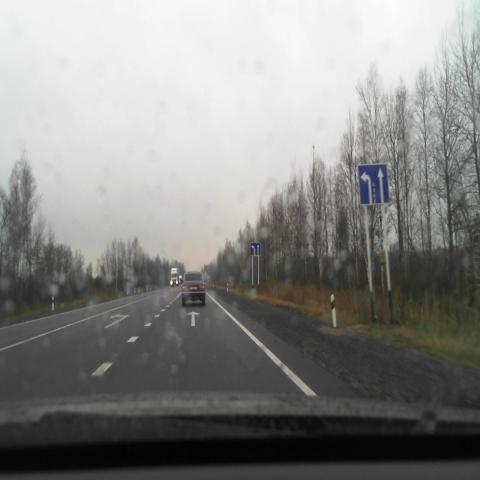5_15_2_2: (358, 164, 390, 205), (251, 243, 260, 256)
